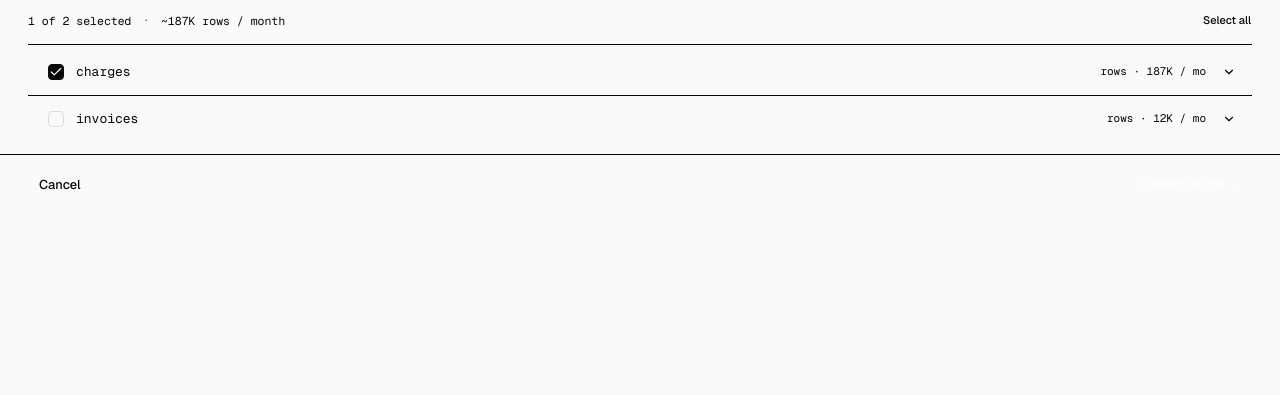
Test case: <ConfirmStep> › expands a row to show a sample preview
Click the button named "Show sample for charges": [1229, 72] box [1218, 60, 1240, 82]
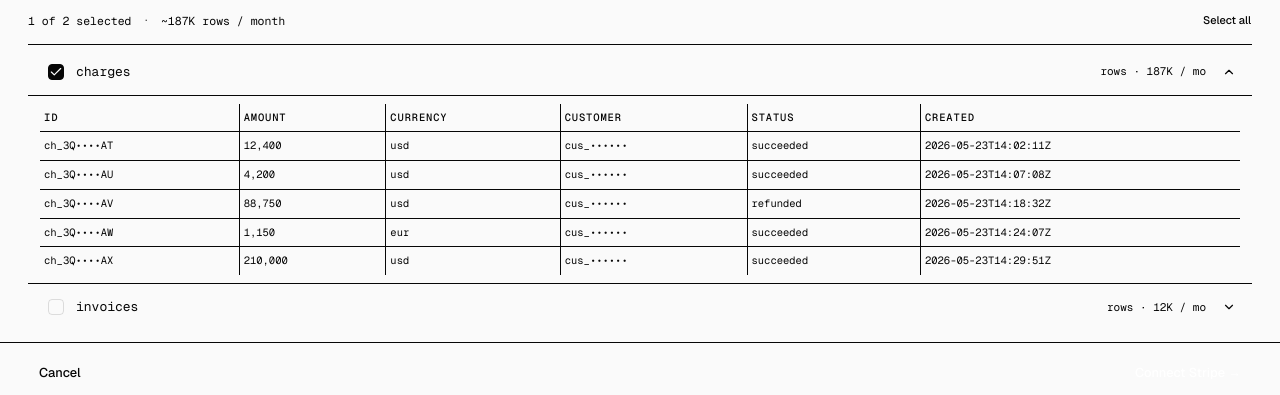
Now the text "amount" is shown, box [244, 110, 286, 124]
Now the text "ch_3Q••••AT" is shown, box [40, 138, 121, 152]
